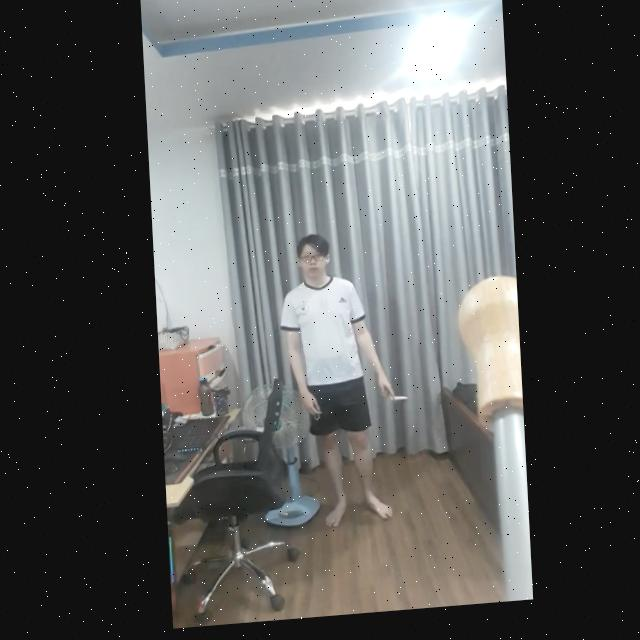cigarette: (386, 402, 405, 408)
